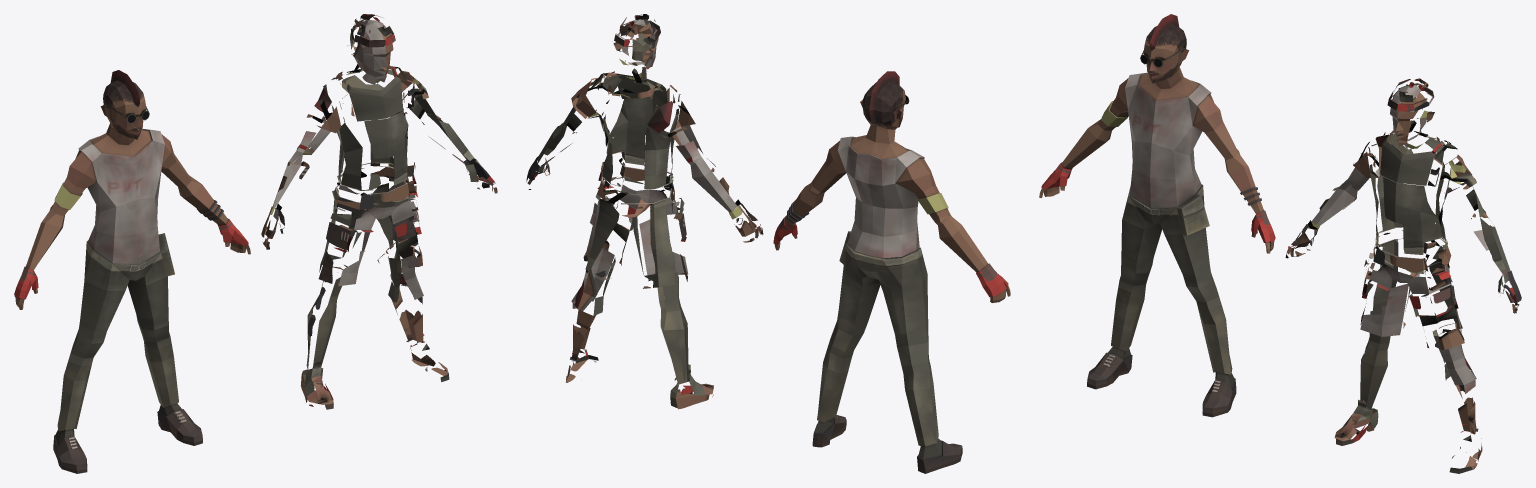
The model's file is sketchfab.fbx.
3 views of the same model, side by side, from view 1: azimuth 30°, elevation 25°; view 2: azimuth 150°, elevation 25°; view 3: azimuth 330°, elevation 25° (orthographic).
Parts seen in each view (by area): view 1: Cube, Cube.001; view 2: Cube, Cube.001; view 3: Cube, Cube.001.
Part boxes in pixels (<box>): Cube: <box>14,70,250,473</box>; Cube.001: <box>261,14,497,409</box>; Cube: <box>773,71,1010,473</box>; Cube.001: <box>526,14,763,409</box>; Cube: <box>1039,14,1275,417</box>; Cube.001: <box>1285,78,1521,473</box>.
Size of the model in its own units: 581 by 435 by 71.77.
